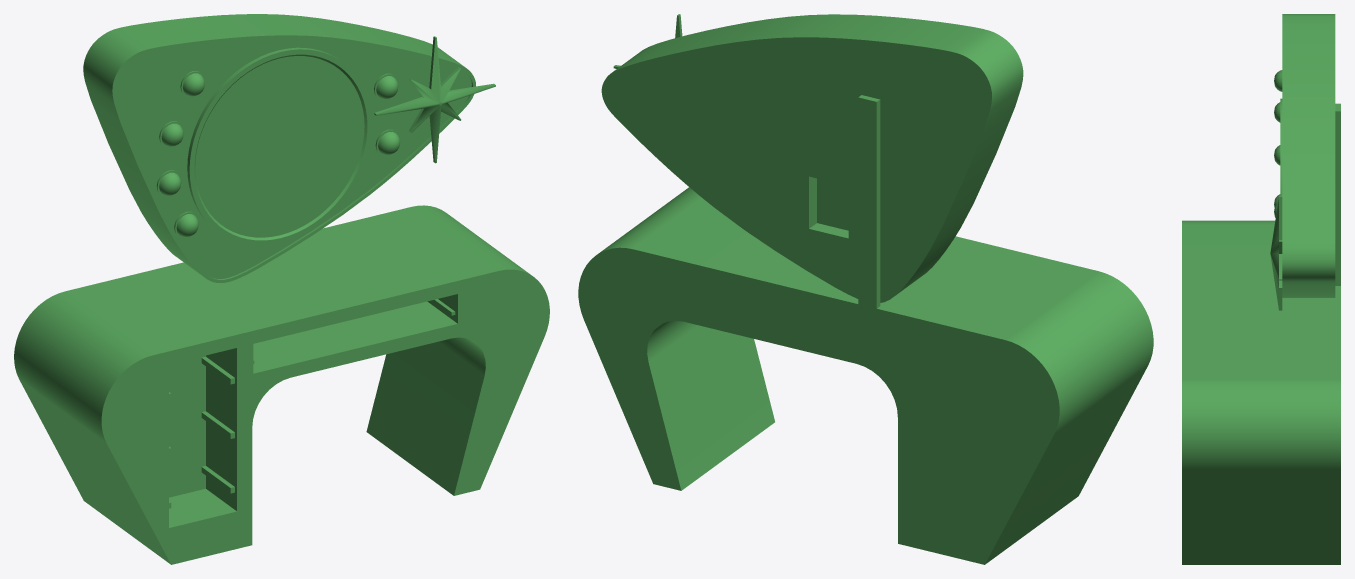
The model's file is SM_VanityDresser_01b.fbx.
The picture shows the model from 3 angles, left to right: view 1: azimuth 30°, elevation 25°; view 2: azimuth 150°, elevation 25°; view 3: azimuth 270°, elevation 25°; orthographic projection. The views are drawn at different scales.
Parts seen in each view (by area): view 1: SM_VanityDresser_01b; view 2: SM_VanityDresser_01b; view 3: SM_VanityDresser_01b.
Boxes of the visible parts, x1,y1,x2,y2 form: SM_VanityDresser_01b: [14, 14, 549, 564]; SM_VanityDresser_01b: [578, 14, 1153, 564]; SM_VanityDresser_01b: [1182, 14, 1340, 564].
Size of the model in its own units: 5.75 by 5.73 by 1.94.
